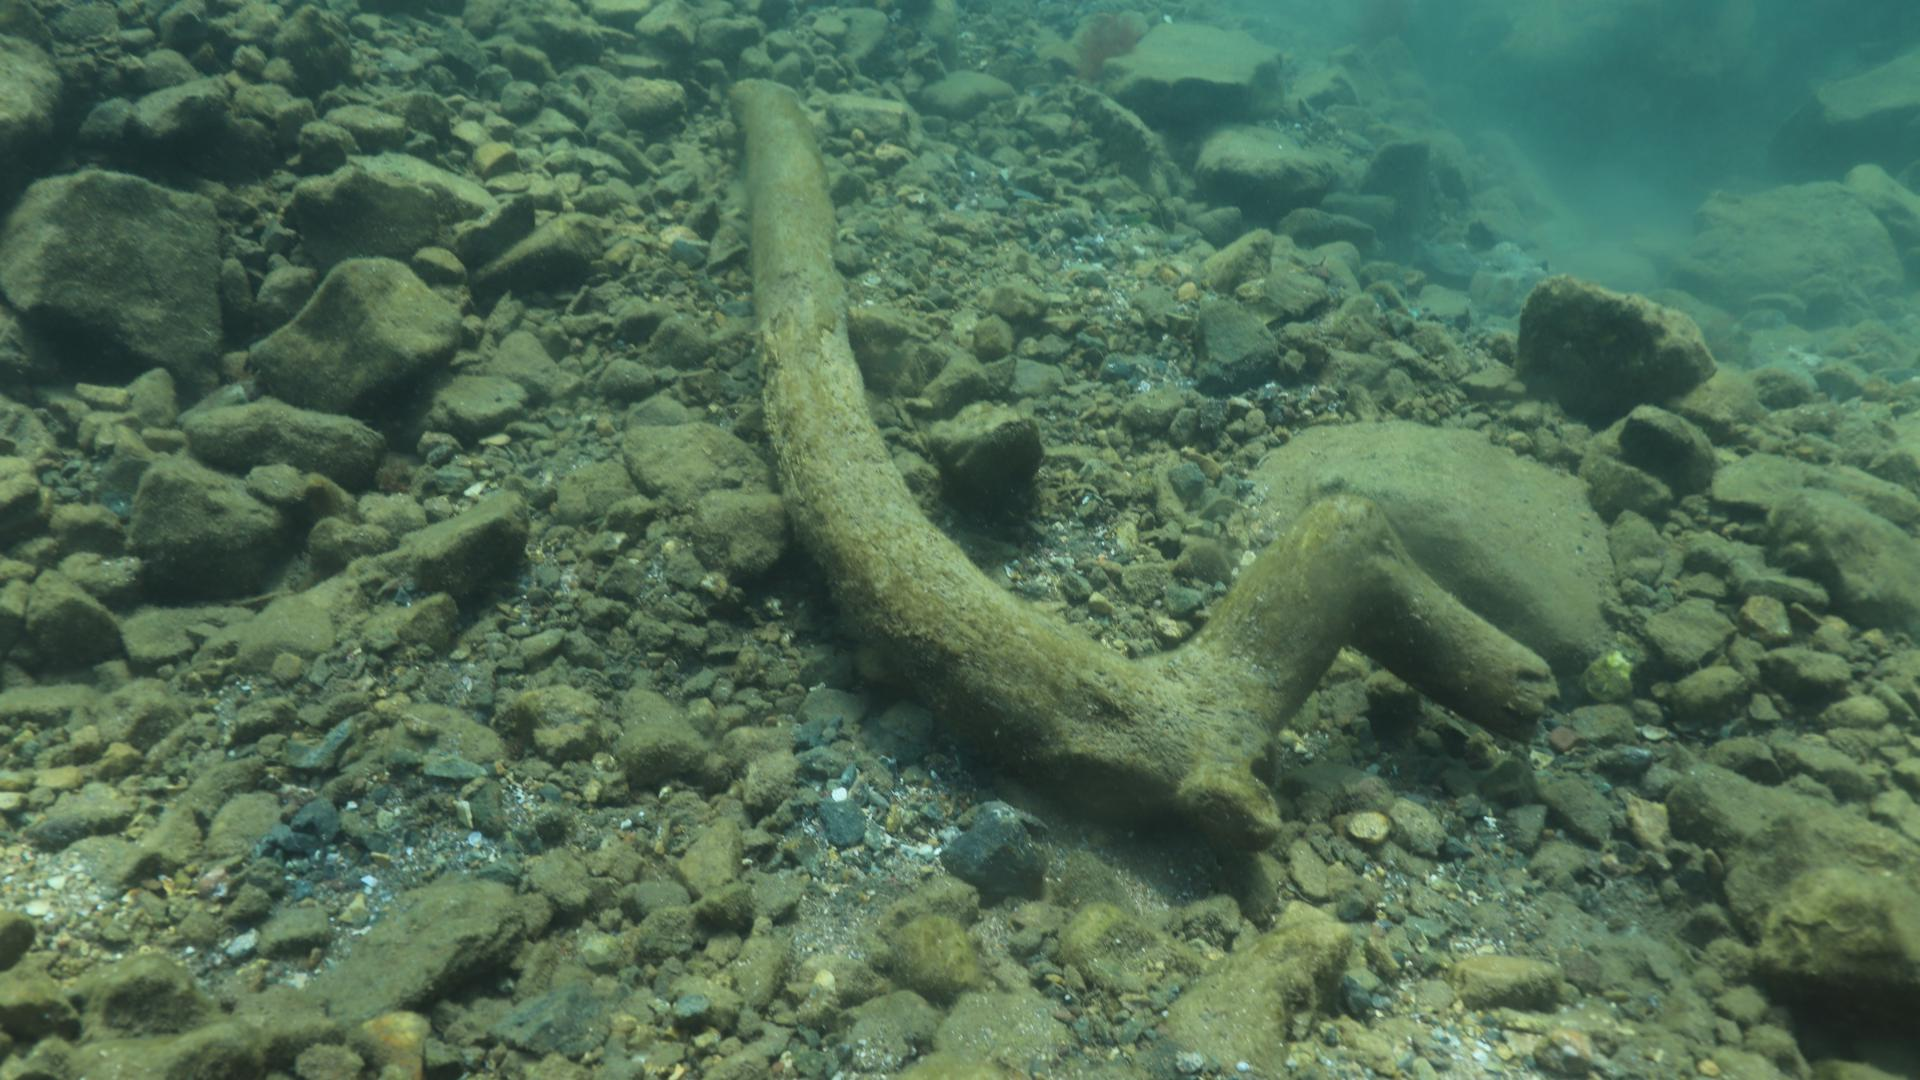wood: (724, 75, 1561, 851)
